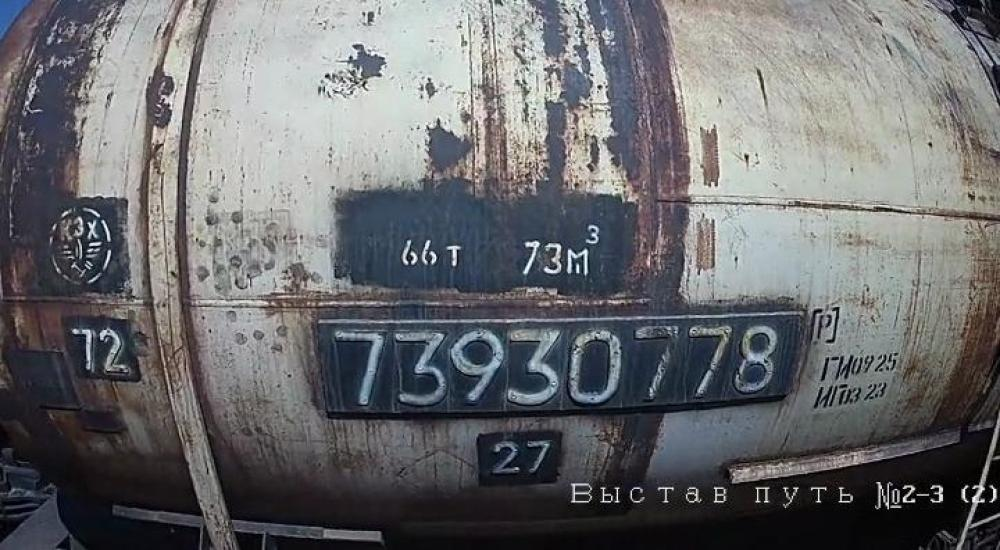Wagon-number: (331, 320, 785, 407)
